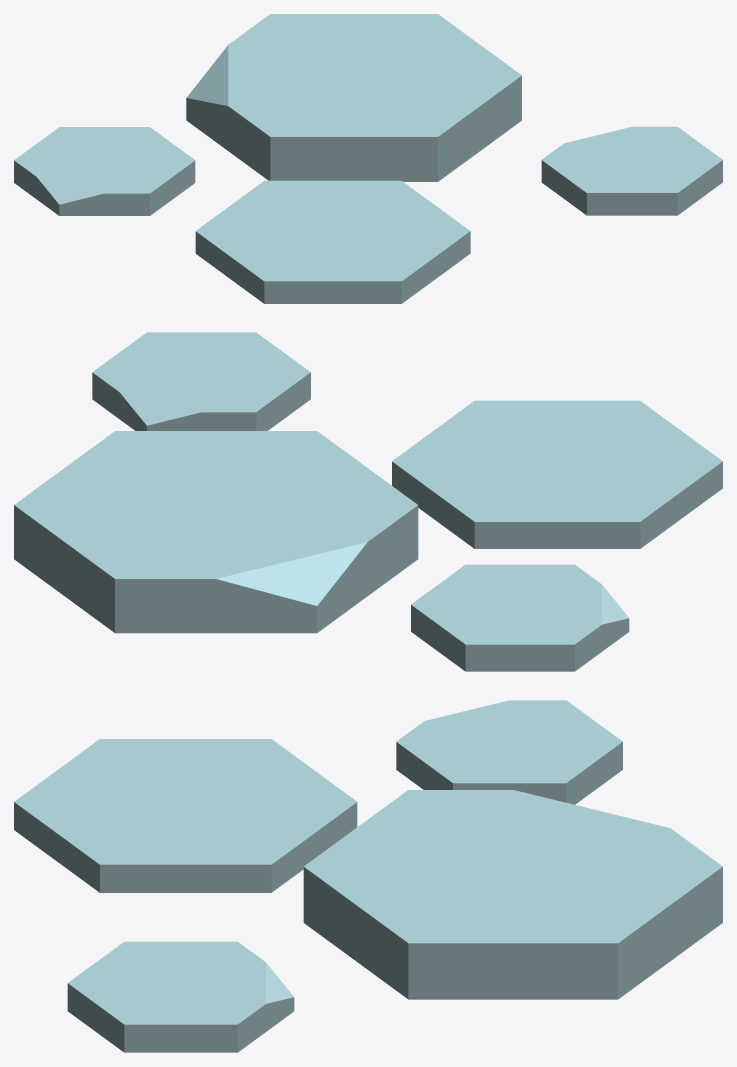
Rendered from path_stoneEnd.glb.
3 views of the same model, one above another, from view 1: azimuth 30°, elevation 25°; view 2: azimuth 150°, elevation 25°; view 3: azimuth 270°, elevation 25° (orthographic). The views are drawn at different scales.
Parts seen in each view (by area): view 1: path_stoneEnd; view 2: path_stoneEnd; view 3: path_stoneEnd.
Part boxes in pixels (bbox=[...]): path_stoneEnd: bbox=[14, 14, 722, 303]; path_stoneEnd: bbox=[14, 332, 722, 671]; path_stoneEnd: bbox=[14, 700, 722, 1052].
Bounding box in the file's own units: 0.6182 × 0.05 × 0.571.
